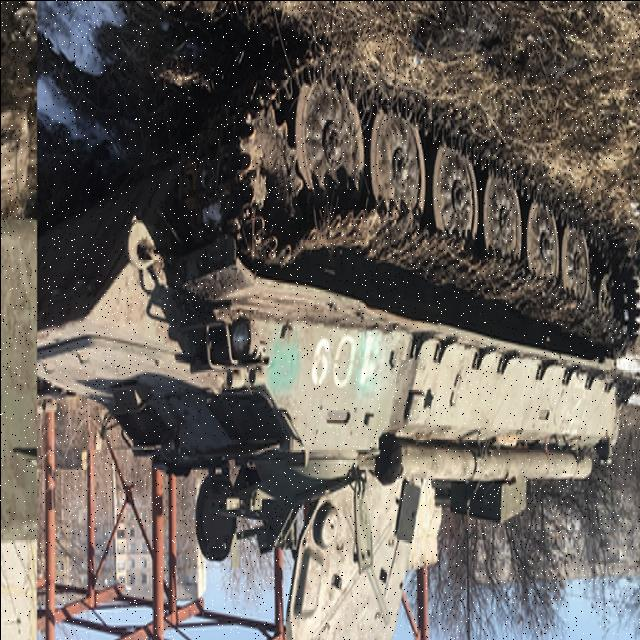APC-IFV: (37, 51, 638, 625)
